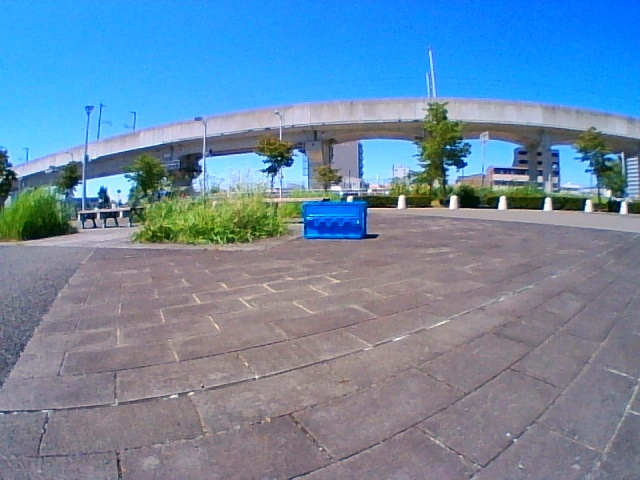blue_box: (303, 202, 366, 237)
